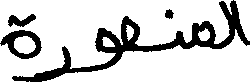ا: (230, 0, 248, 47)
ة: (0, 12, 40, 59)
ر: (39, 36, 70, 80)
ص: (120, 14, 141, 60)
ل: (218, 0, 233, 49)
م: (191, 19, 213, 50)
ن: (164, 8, 183, 49)
و: (93, 17, 122, 71)
